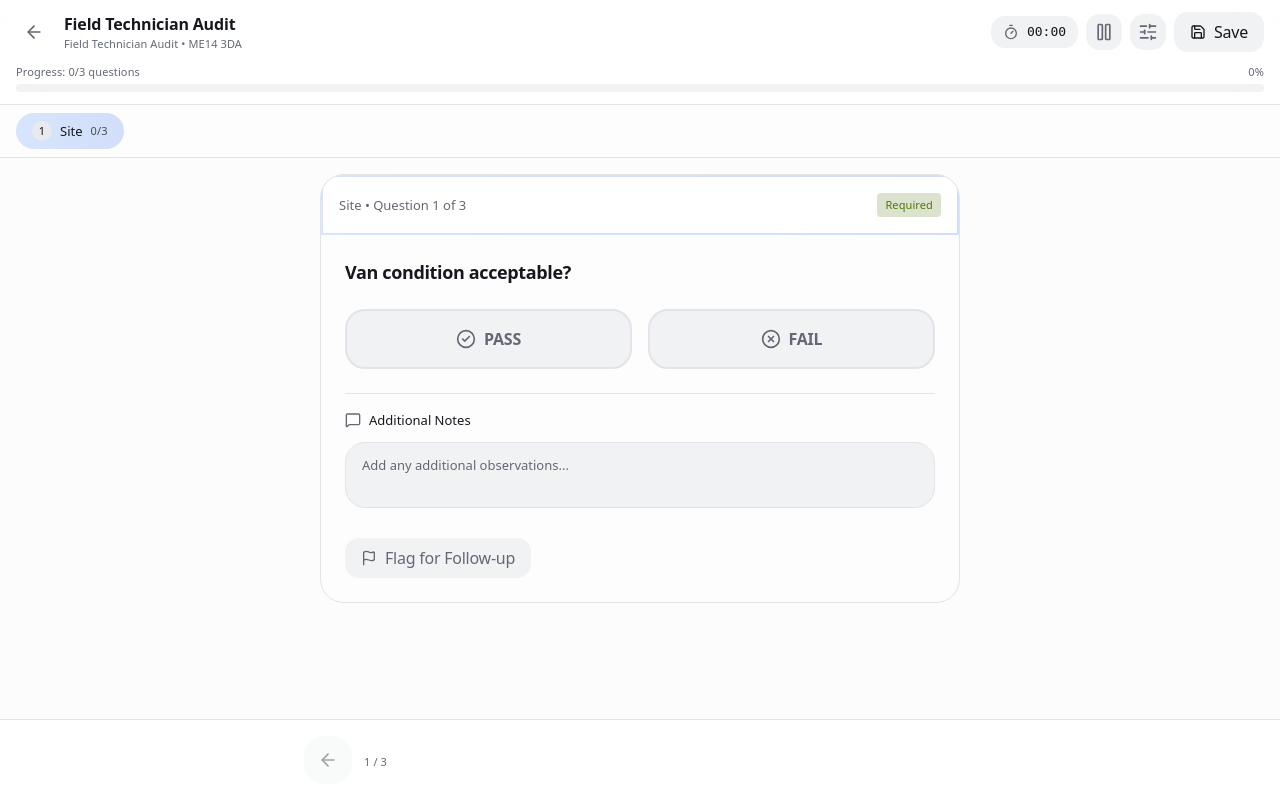
Test case: AuditExecution per-question saves (AUD-F3) › still saves the other questions when one question is rejected
Expected: the heading "Van condition acceptable?" is shown, [345, 260, 571, 284]
Click the button "PASS" at coordinates (488, 339), box [345, 309, 632, 369]
Wait 700 ms
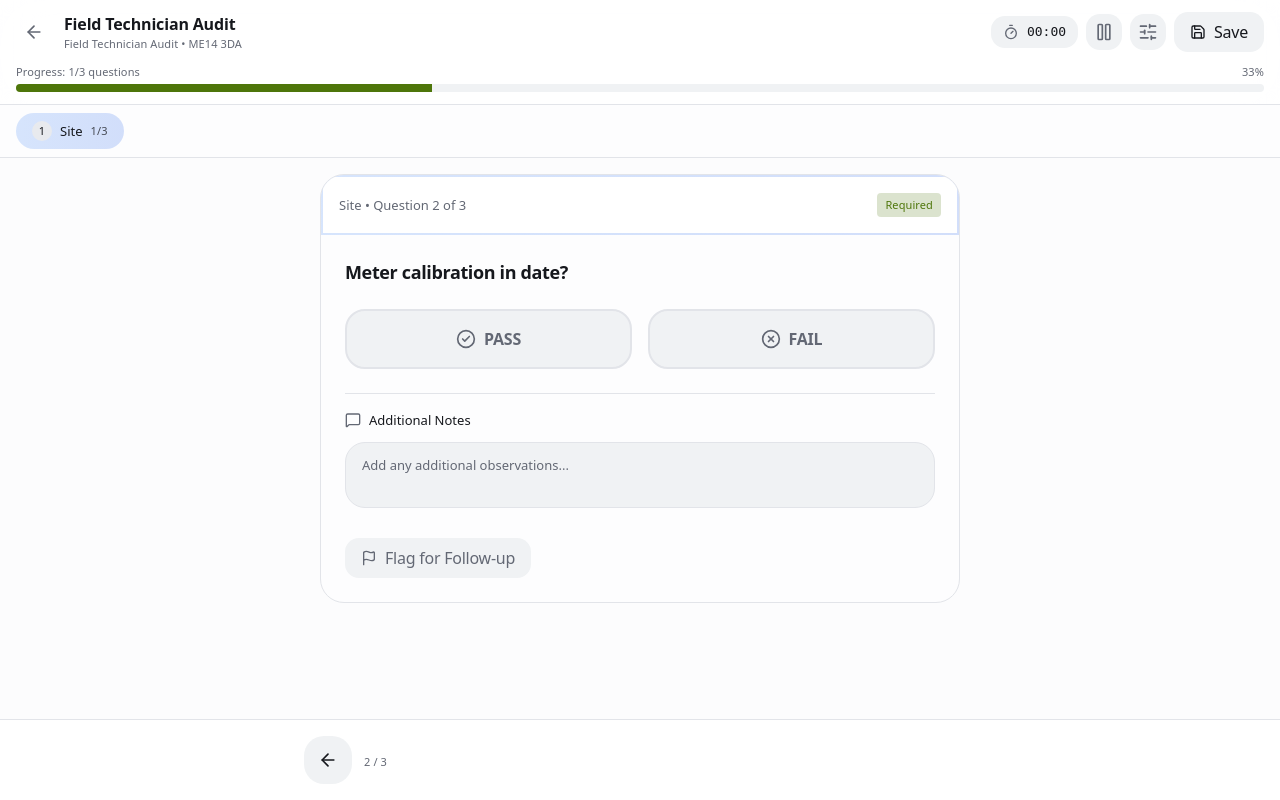
Expected: the heading "Meter calibration in date?" is shown, [345, 260, 568, 284]
Click the button "PASS" at coordinates (488, 339), box [345, 309, 632, 369]
Wait 700 ms
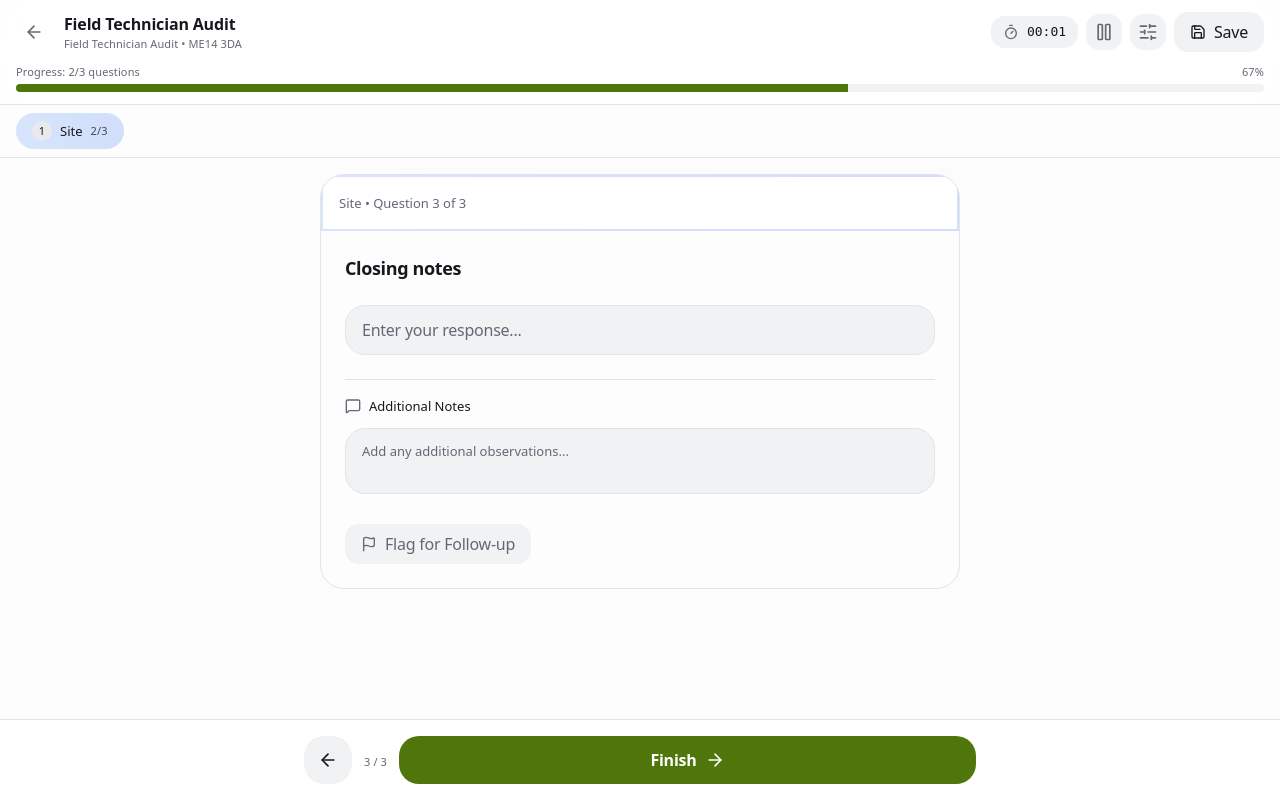
Expected: the heading "Closing notes" is shown, [345, 256, 461, 280]
Click the button "Save" at coordinates (1219, 32), box [1174, 12, 1264, 52]
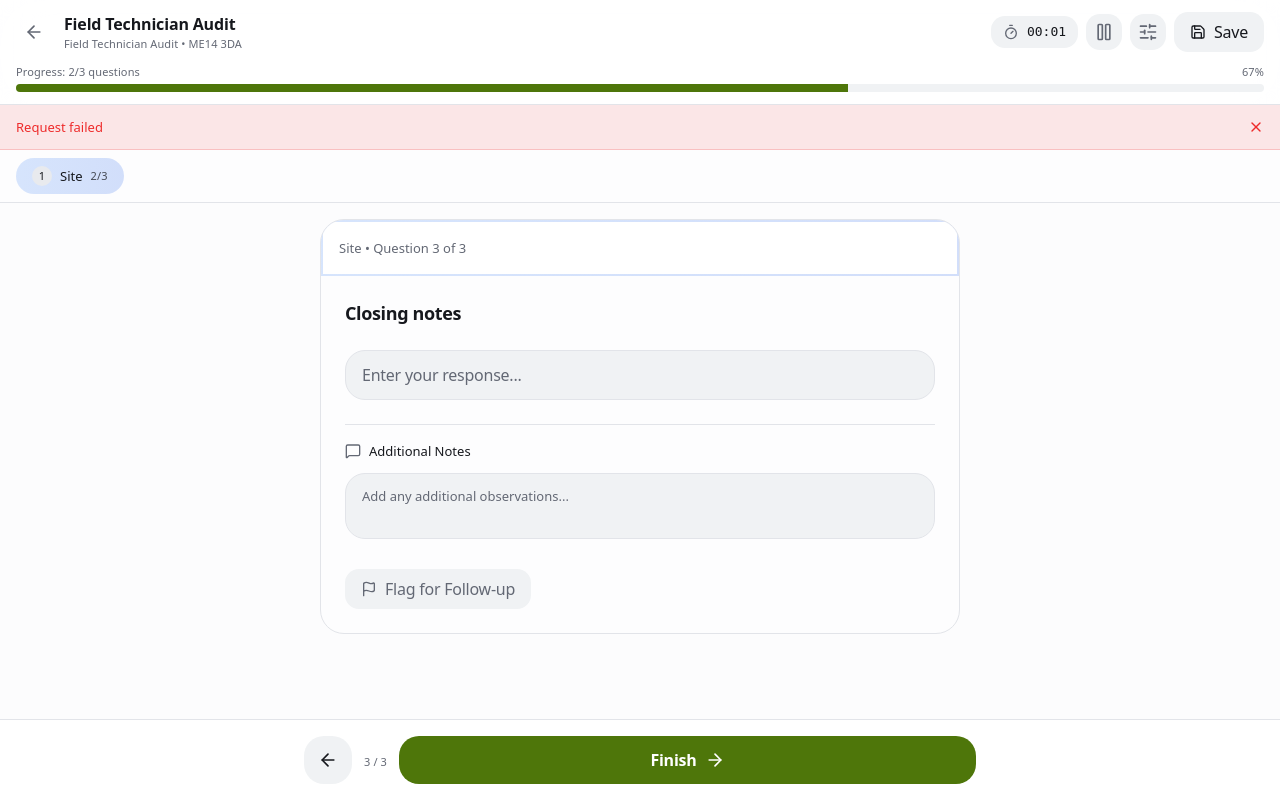
Expected: the text "Request failed" is shown, [16, 117, 103, 137]
